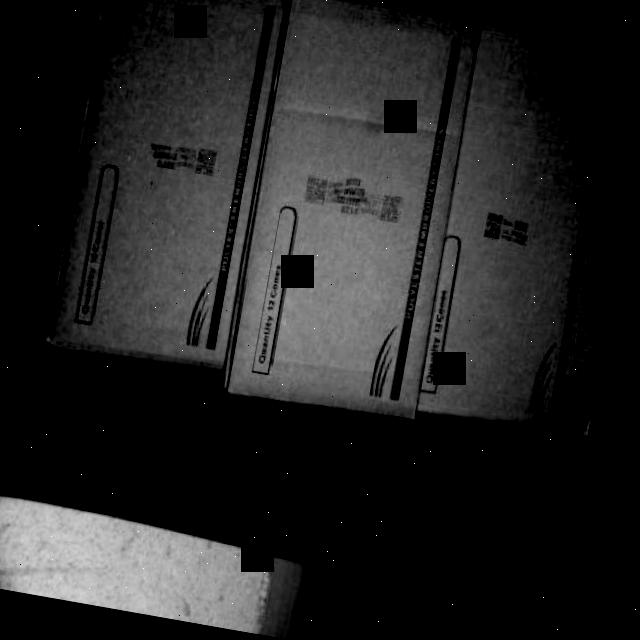box: (228, 0, 482, 417), (413, 28, 640, 442), (43, 0, 293, 367)
